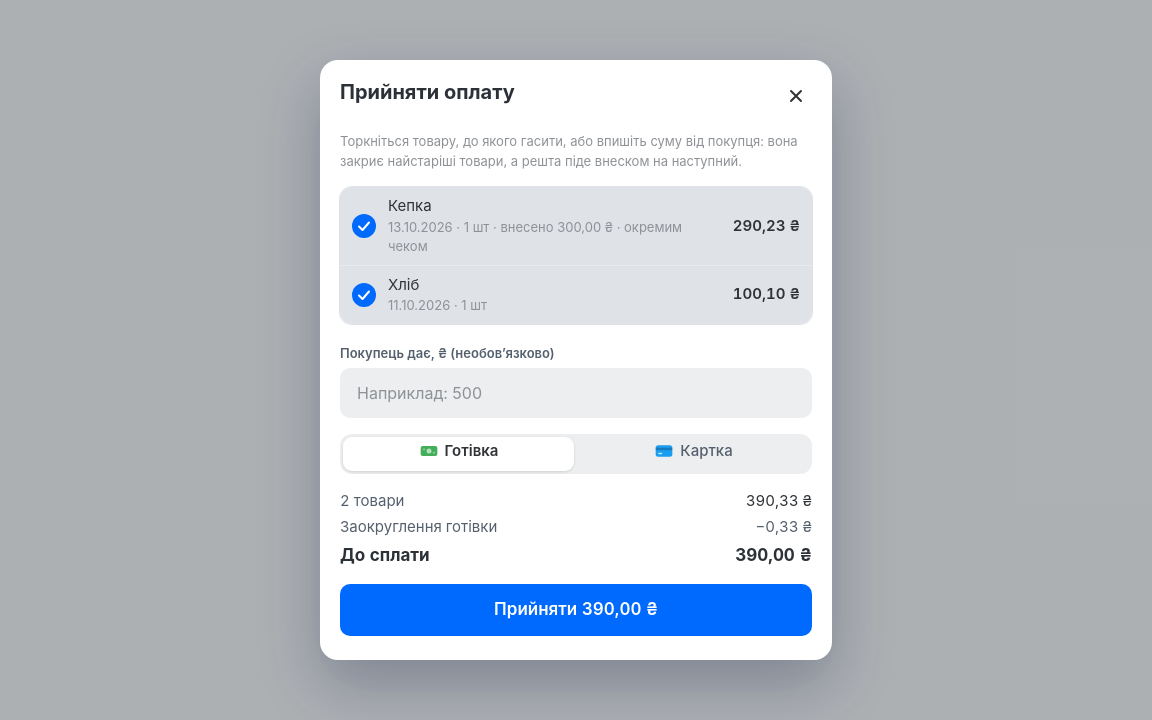
Test: PaySheet in a store whose ПРРО keeps prepayment chains (G3_DEBTS.md §11 «Крок 2») › closes a chained line on its own receipt, rounds each receipt by itself and lists both when done
The width and height of the screenshot is (1152, 720).
Expected: the button "Кепка" shows "окремим чеком", [340,187,812,264]
Click the button "Прийняти 390,00 ₴" at (576, 610), box [340,584,812,636]
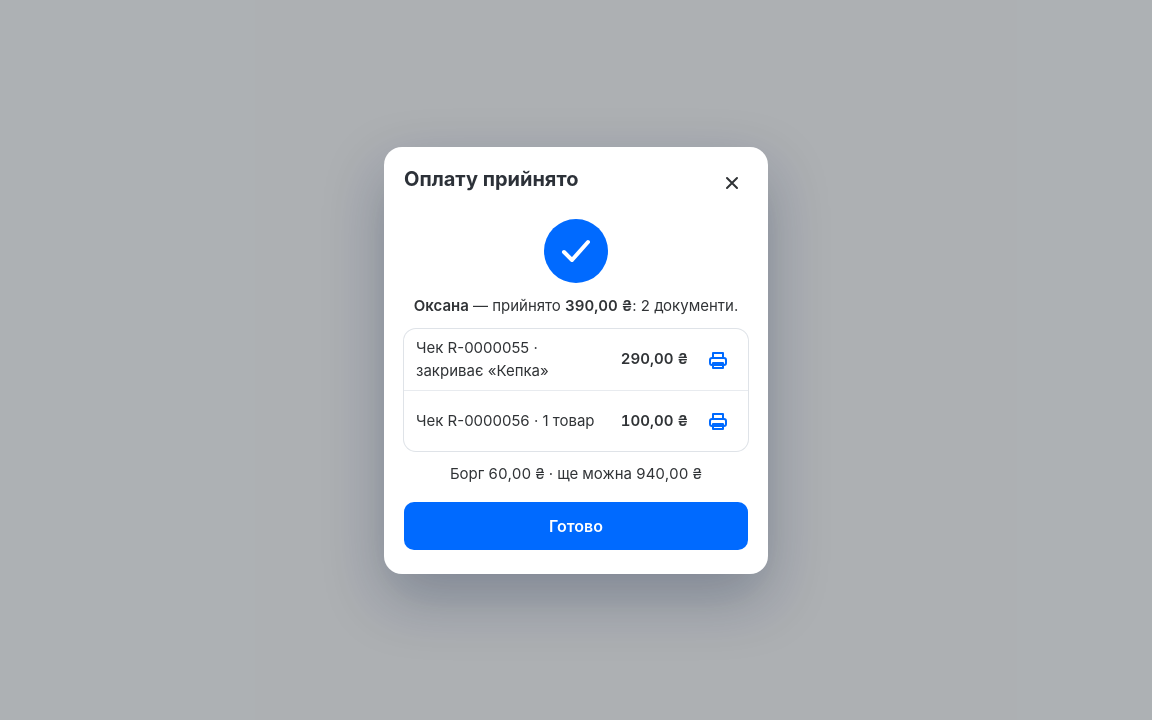
Now the dialog with test id "debts-pay-done" is shown, box [384,146,768,574]
Now the list item "Чек R-0000055 · закриває «Кепка» 290,00 ₴" is shown, box [404,329,748,391]
Now the list item "Чек R-0000056 · 1 товар 100,00 ₴" is shown, box [404,391,748,451]
